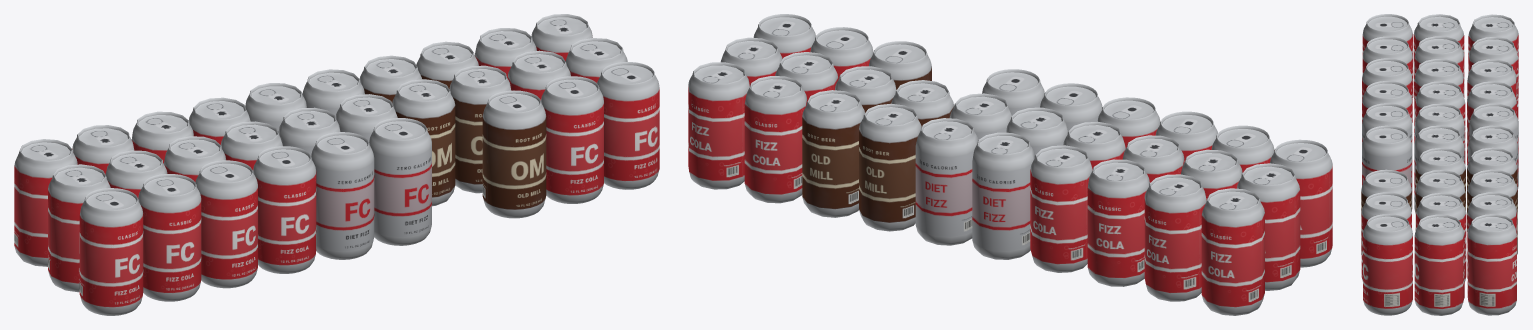
File: SM_Stock_CoolerRow_Cans.glb
3 views of the same model, side by side, from view 1: azimuth 30°, elevation 25°; view 2: azimuth 150°, elevation 25°; view 3: azimuth 270°, elevation 25° (orthographic). The views are drawn at different scales.
Visible parts, largest first — view 1: SM_Stock_CoolerRow_Cans; view 2: SM_Stock_CoolerRow_Cans; view 3: SM_Stock_CoolerRow_Cans.
Part boxes in pixels (bbox=[...]): SM_Stock_CoolerRow_Cans: bbox=[14, 14, 659, 315]; SM_Stock_CoolerRow_Cans: bbox=[688, 14, 1332, 315]; SM_Stock_CoolerRow_Cans: bbox=[1361, 14, 1518, 315].
Bounding box in the file's own units: 0.6883 × 0.1224 × 0.2066.
1 material, 1 textured.
